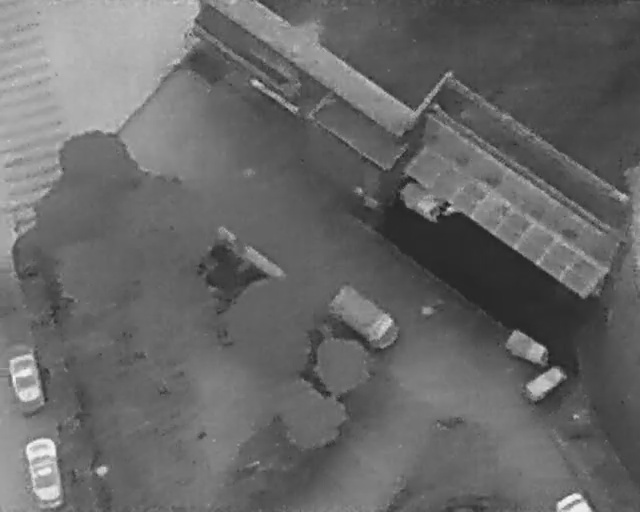Car: (325, 277, 404, 353), (20, 435, 67, 511), (7, 352, 48, 416), (501, 326, 556, 371), (519, 362, 570, 407)
